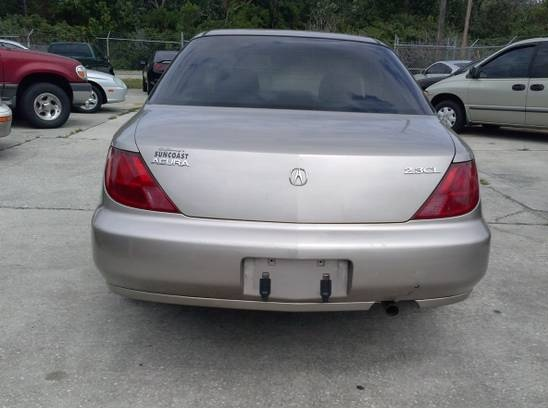acura: (87, 23, 494, 334)
